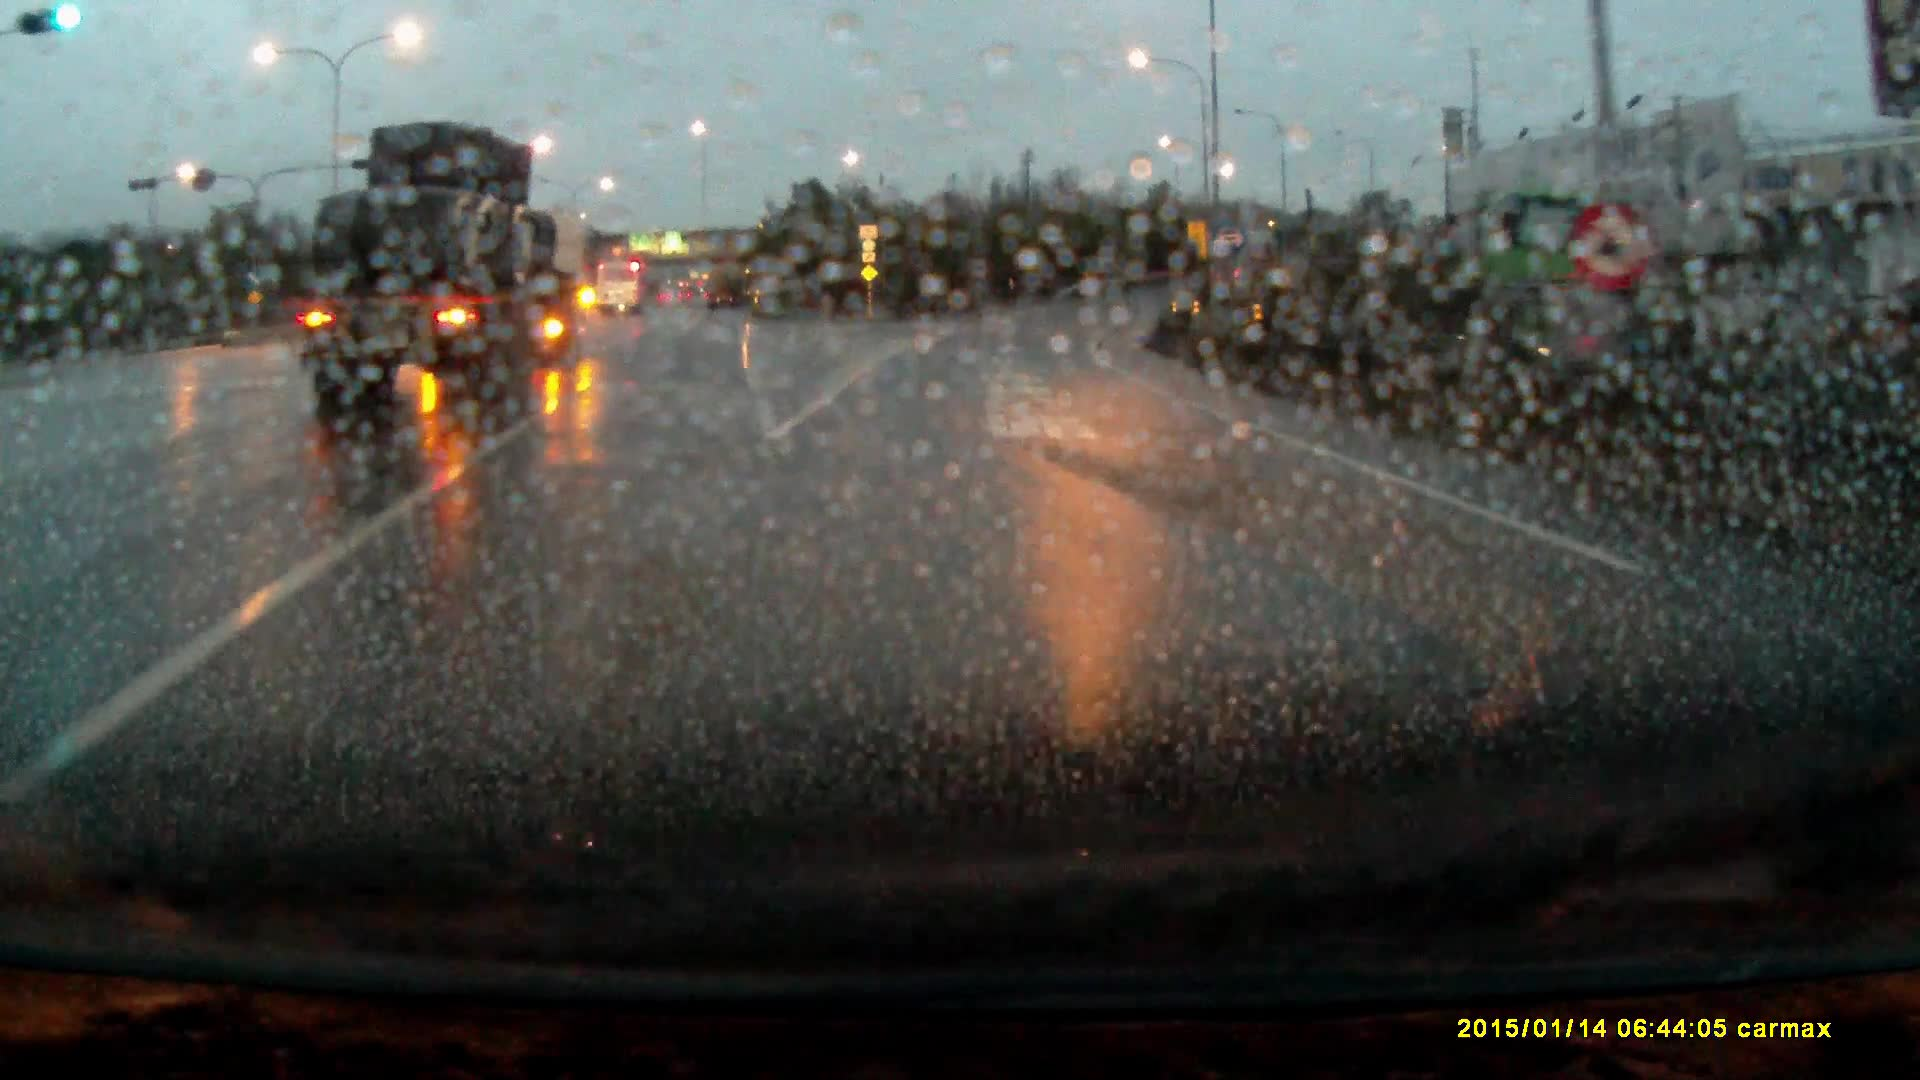vehicle: (294, 128, 597, 419), (597, 264, 654, 320)
